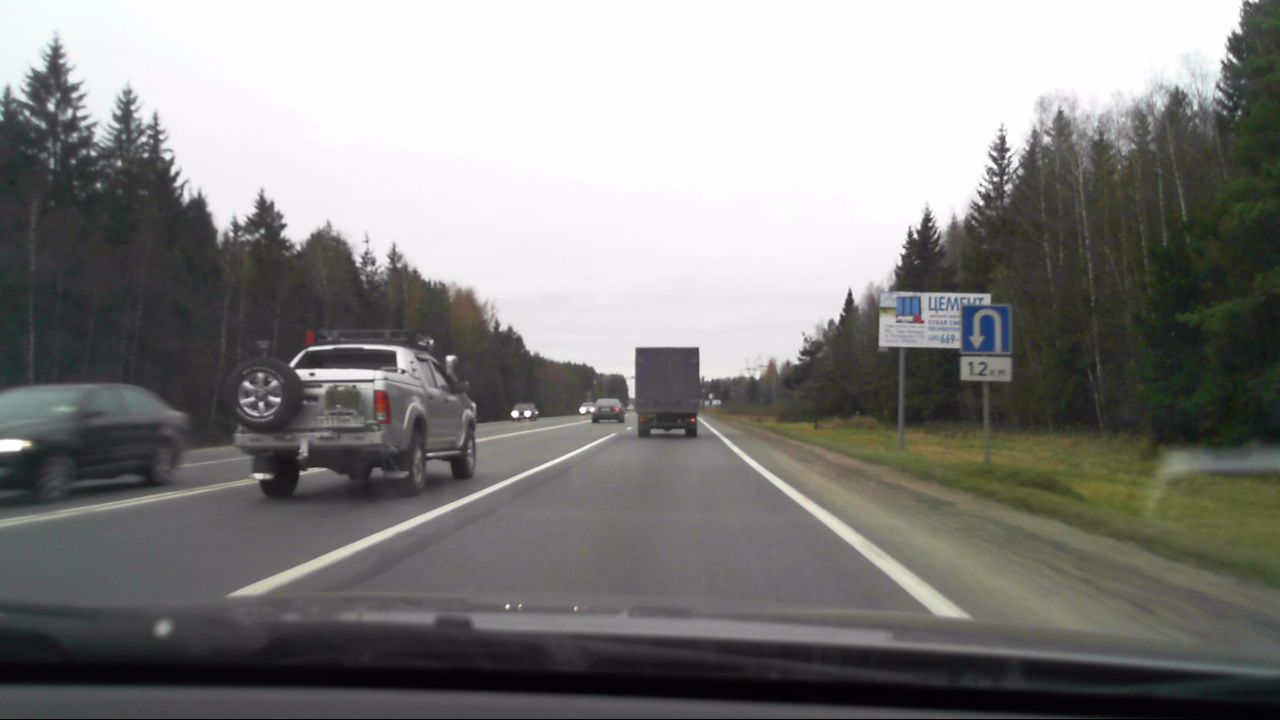U-turn: (962, 305, 1010, 353)
